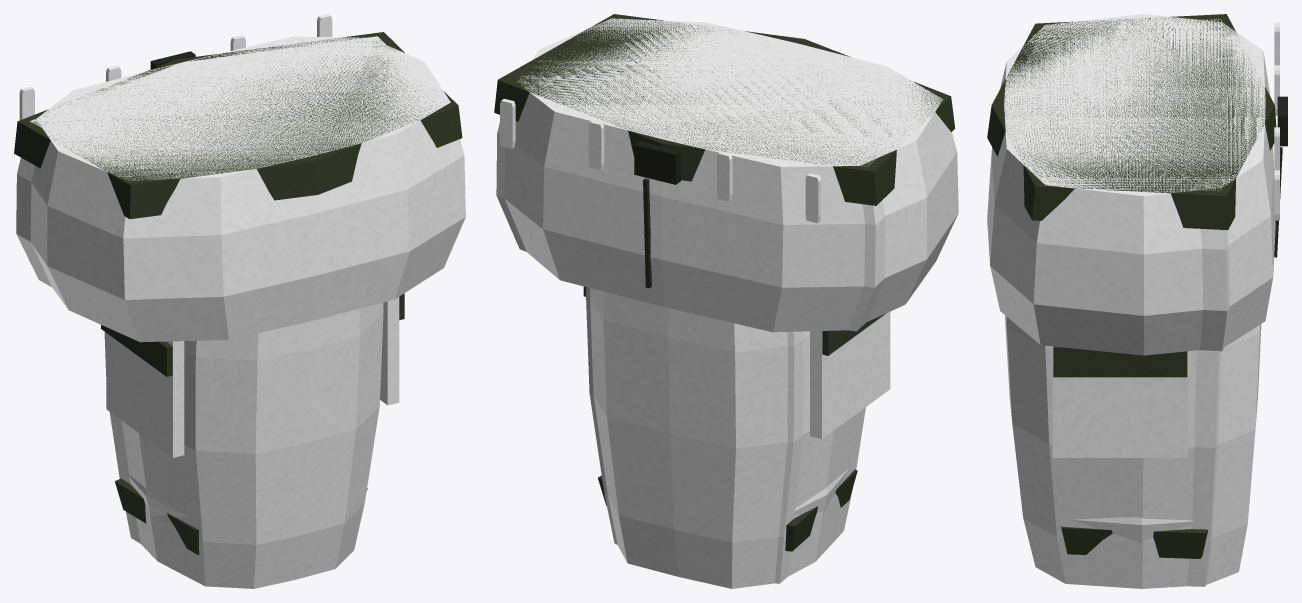
File: trousers_sumrak.glb
The picture shows the model from 3 angles, left to right: view 1: azimuth 30°, elevation 25°; view 2: azimuth 150°, elevation 25°; view 3: azimuth 270°, elevation 25°; orthographic projection. The views are drawn at different scales.
Parts seen in each view (by area): view 1: trousers_sumrak_pelvis_LOD0_RAID_cloth.001, trousers_sumrak_thighL_LOD0_RAID_cloth.001, trousers_sumrak_pelvis_LOD1_RAID_cloth.001, trousers_sumrak_pelvis_LOD0_RAID_reinforce.001, trousers_sumrak_thighL_LOD1_RAID_cloth.001, trousers_sumrak_thighR_LOD0_RAID_cloth.001, trousers_sumrak_shinL_LOD0_RAID_reinforce.001, trousers_sumrak_thighL_LOD1_RAID_reinforce.001, trousers_sumrak_thighL_LOD0_RAID_reinforce.001, trousers_sumrak_shinL_LOD0_RAID_cloth.001; view 2: trousers_sumrak_pelvis_LOD0_RAID_cloth.001, trousers_sumrak_thighL_LOD0_RAID_cloth.001, trousers_sumrak_pelvis_LOD0_RAID_reinforce.001, trousers_sumrak_thighL_LOD1_RAID_cloth.001, trousers_sumrak_pelvis_LOD1_RAID_cloth.001, trousers_sumrak_pelvis_LOD0_RAID_zip.001, trousers_sumrak_shinL_LOD0_RAID_reinforce.001, trousers_sumrak_pelvis_LOD1_RAID_zip.001, trousers_sumrak_pelvis_LOD0_RAID_seam.001, trousers_sumrak_shinL_LOD0_RAID_cloth.001, trousers_sumrak_thighL_LOD0_RAID_reinforce.001; view 3: trousers_sumrak_pelvis_LOD0_RAID_cloth.001, trousers_sumrak_thighL_LOD0_RAID_cloth.001, trousers_sumrak_pelvis_LOD0_RAID_reinforce.001, trousers_sumrak_thighR_LOD0_RAID_cloth.001, trousers_sumrak_pelvis_LOD1_RAID_cloth.001, trousers_sumrak_thighR_LOD1_RAID_cloth.001, trousers_sumrak_thighL_LOD1_RAID_cloth.001, trousers_sumrak_thighR_LOD0_RAID_reinforce.001, trousers_sumrak_shinL_LOD0_RAID_reinforce.001, trousers_sumrak_shinL_LOD0_RAID_cloth.001, trousers_sumrak_thighR_LOD1_RAID_reinforce.001.
Boxes of the visible parts, bbox=[...] form: trousers_sumrak_pelvis_LOD0_RAID_cloth.001: bbox=[19, 14, 465, 342]; trousers_sumrak_thighL_LOD0_RAID_cloth.001: bbox=[106, 302, 383, 588]; trousers_sumrak_pelvis_LOD1_RAID_cloth.001: bbox=[16, 36, 421, 287]; trousers_sumrak_pelvis_LOD0_RAID_reinforce.001: bbox=[14, 32, 462, 219]; trousers_sumrak_thighL_LOD1_RAID_cloth.001: bbox=[104, 332, 184, 543]; trousers_sumrak_thighR_LOD0_RAID_cloth.001: bbox=[380, 297, 399, 396]; trousers_sumrak_shinL_LOD0_RAID_reinforce.001: bbox=[115, 478, 367, 554]; trousers_sumrak_thighL_LOD1_RAID_reinforce.001: bbox=[101, 325, 172, 376]; trousers_sumrak_thighL_LOD0_RAID_reinforce.001: bbox=[101, 325, 172, 373]; trousers_sumrak_shinL_LOD0_RAID_cloth.001: bbox=[128, 475, 188, 517]; trousers_sumrak_pelvis_LOD0_RAID_cloth.001: bbox=[500, 18, 958, 332]; trousers_sumrak_thighL_LOD0_RAID_cloth.001: bbox=[590, 288, 890, 588]; trousers_sumrak_pelvis_LOD0_RAID_reinforce.001: bbox=[494, 14, 955, 205]; trousers_sumrak_thighL_LOD1_RAID_cloth.001: bbox=[586, 287, 890, 583]; trousers_sumrak_pelvis_LOD1_RAID_cloth.001: bbox=[496, 19, 937, 331]; trousers_sumrak_pelvis_LOD0_RAID_zip.001: bbox=[634, 143, 680, 184]; trousers_sumrak_shinL_LOD0_RAID_reinforce.001: bbox=[598, 469, 857, 551]; trousers_sumrak_pelvis_LOD1_RAID_zip.001: bbox=[634, 141, 680, 184]; trousers_sumrak_pelvis_LOD0_RAID_seam.001: bbox=[643, 178, 651, 288]; trousers_sumrak_shinL_LOD0_RAID_cloth.001: bbox=[794, 468, 849, 514]; trousers_sumrak_thighL_LOD0_RAID_reinforce.001: bbox=[822, 316, 879, 352]; trousers_sumrak_pelvis_LOD0_RAID_cloth.001: bbox=[987, 14, 1279, 355]; trousers_sumrak_thighL_LOD0_RAID_cloth.001: bbox=[1005, 315, 1261, 588]; trousers_sumrak_pelvis_LOD0_RAID_reinforce.001: bbox=[987, 14, 1276, 230]; trousers_sumrak_thighR_LOD0_RAID_cloth.001: bbox=[1052, 349, 1187, 457]; trousers_sumrak_pelvis_LOD1_RAID_cloth.001: bbox=[1006, 18, 1264, 351]; trousers_sumrak_thighR_LOD1_RAID_cloth.001: bbox=[1052, 346, 1187, 457]; trousers_sumrak_thighL_LOD1_RAID_cloth.001: bbox=[1186, 350, 1220, 586]; trousers_sumrak_thighR_LOD0_RAID_reinforce.001: bbox=[1053, 347, 1187, 377]; trousers_sumrak_shinL_LOD0_RAID_reinforce.001: bbox=[1061, 526, 1207, 558]; trousers_sumrak_shinL_LOD0_RAID_cloth.001: bbox=[1072, 517, 1193, 543]; trousers_sumrak_thighR_LOD1_RAID_reinforce.001: bbox=[1053, 346, 1187, 377].
Bounding box in the file's own units: 0.404 × 0.438 × 0.2665.
4 materials, 4 textured.
